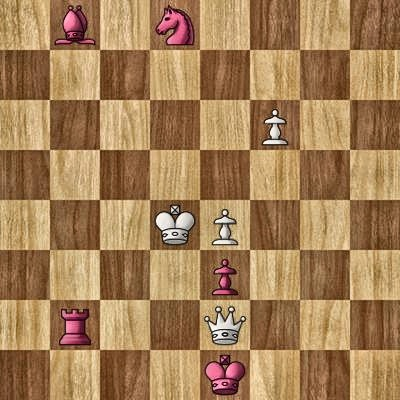black-bishop: (50, 0, 100, 50)
black-king: (200, 350, 250, 400)
black-knight: (150, 0, 200, 50)
black-pawn: (200, 250, 250, 300)
black-rook: (50, 300, 100, 350)
white-king: (150, 200, 200, 250)
white-pawn: (250, 100, 300, 150), (200, 200, 250, 250)
white-queen: (200, 300, 250, 350)
